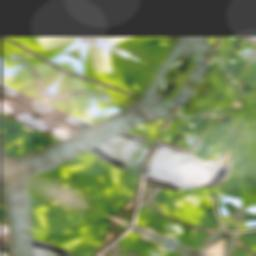Cuckoo: (26, 69, 247, 213)
